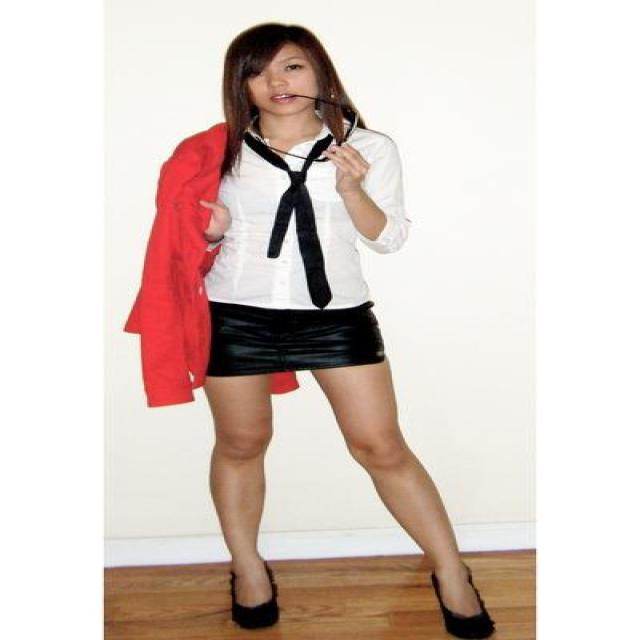jacket: (123, 123, 298, 406)
shirt: (205, 118, 419, 308)
shoe: (230, 576, 490, 629)
skirt: (205, 301, 384, 375)
